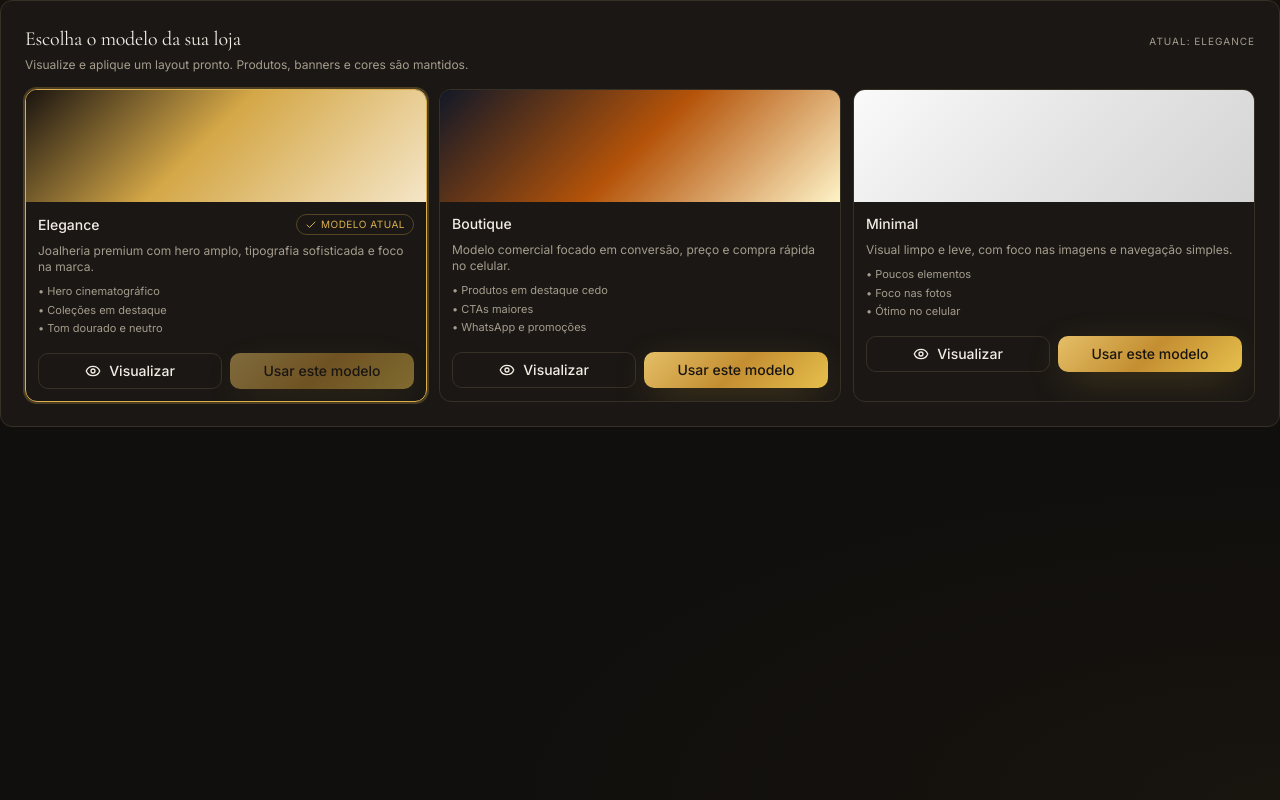
StoreTemplatePickerSection — prévia e update › preview não salva template e não usa carrinho
The width and height of the screenshot is (1280, 800).
Click the button with test id "store-template-preview-boutique" at (544, 370), box left=452, top=352, right=636, bottom=388
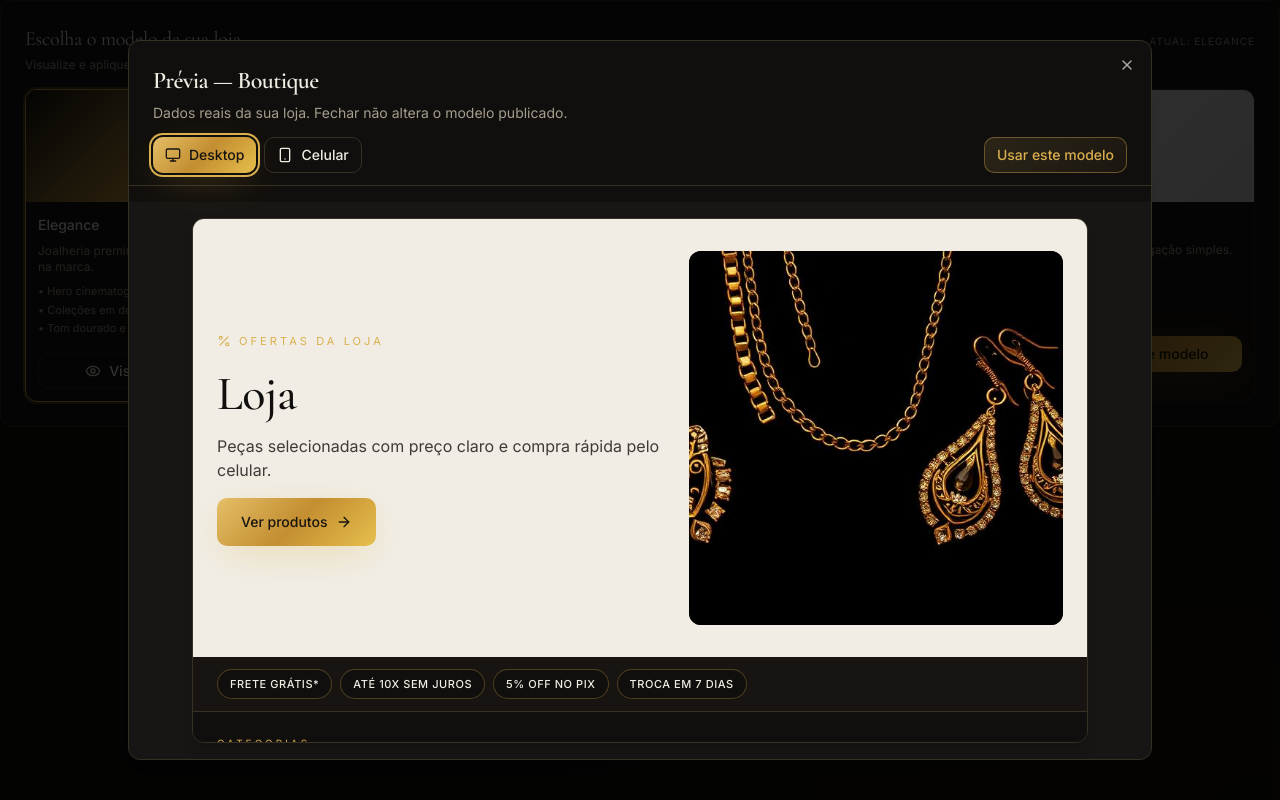
Expected: the dialog with test id "store-template-preview-dialog" is shown
